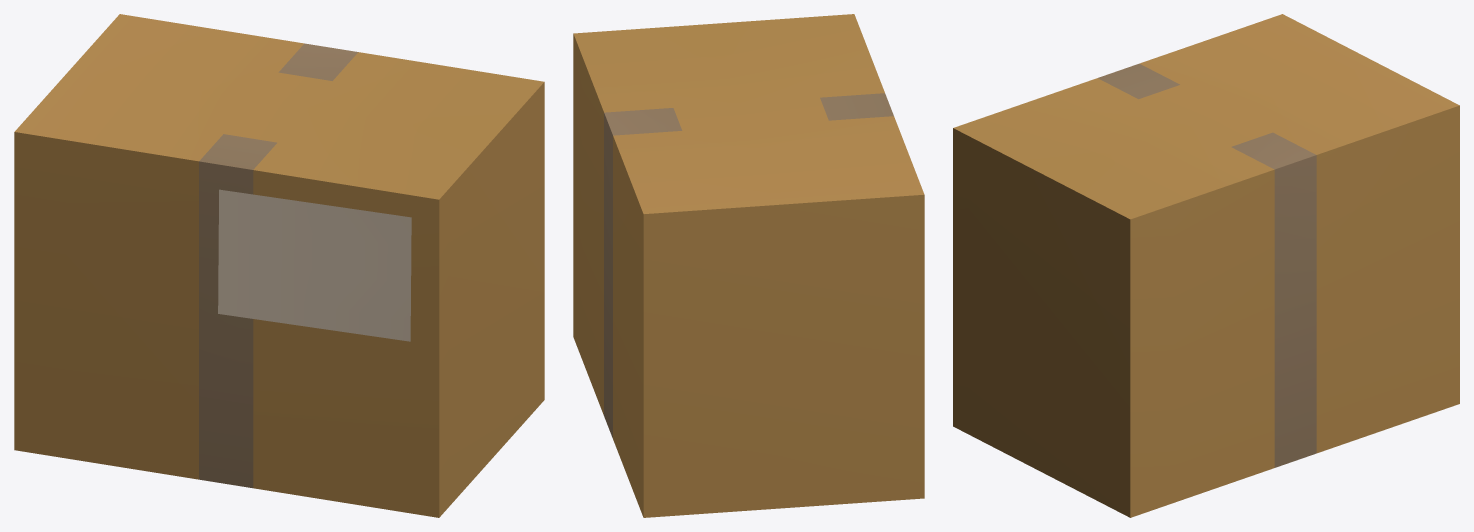
Rendered from package2.fbx.
The picture shows the model from 3 angles, left to right: view 1: azimuth 30°, elevation 25°; view 2: azimuth 150°, elevation 25°; view 3: azimuth 270°, elevation 25°; orthographic projection. The views are drawn at different scales.
Parts seen in each view (by area): view 1: polySurface1072; view 2: polySurface1072; view 3: polySurface1072.
Part boxes in pixels (box(x1,y1,x2,y2)): polySurface1072: box(14, 14, 544, 517); polySurface1072: box(573, 14, 924, 517); polySurface1072: box(953, 14, 1459, 517).
Bounding box in the file's own units: 7.89 × 5.34 × 8.22.
1 material, 1 textured.
